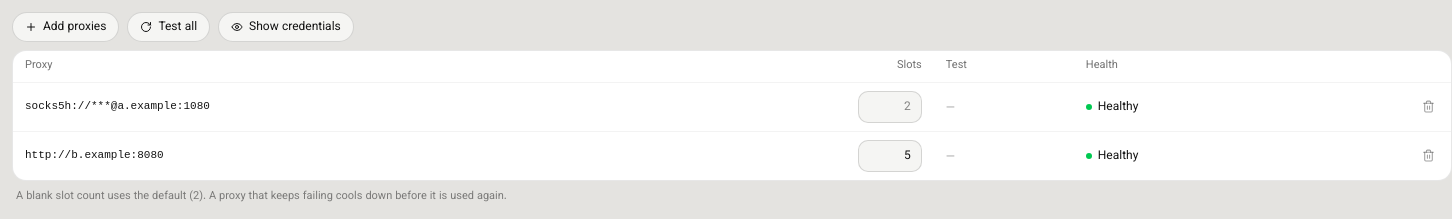
Test: ProxiesView › credentials stay masked until revealed
Expected: the text "socks5h://user:secret@a.example:1080" is not shown
Expected: the text "secret" is not shown
Click the button "Show credentials": (286, 27) [218,12,354,42]
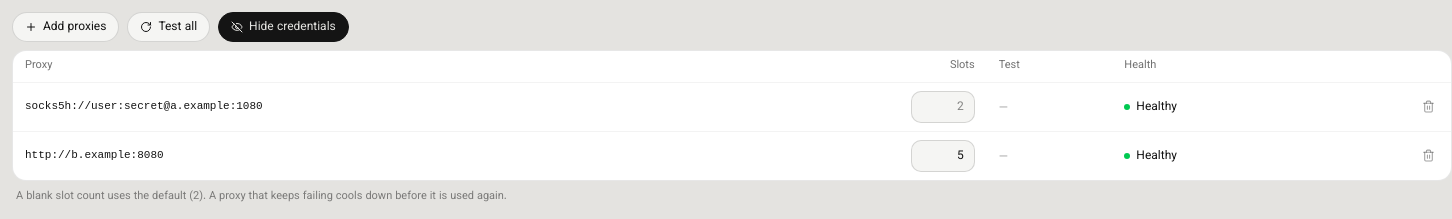
Now the text "socks5h://user:secret@a.example:1080" is shown, box [13,82,742,131]
